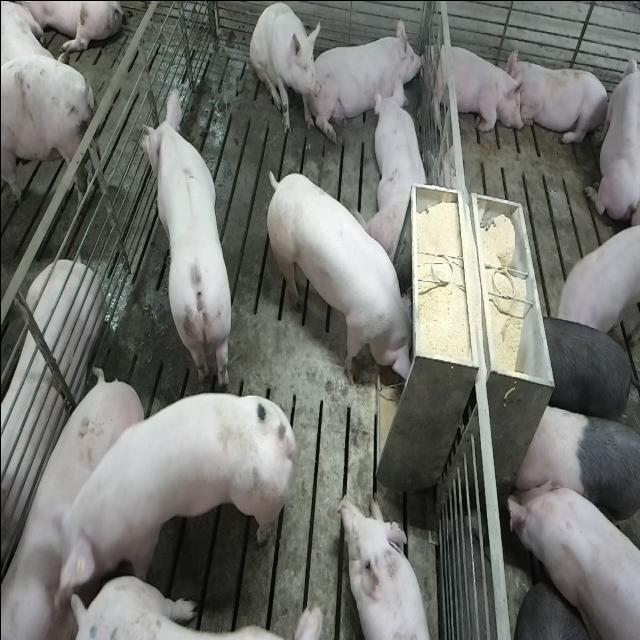Feeding: (270, 168, 422, 392)
Lateral_lying: (0, 256, 102, 633)
Sitting: (248, 2, 320, 138)
Standing: (49, 382, 299, 604), (138, 80, 234, 387), (503, 473, 638, 640), (510, 401, 638, 564), (0, 58, 99, 226), (538, 312, 638, 428), (554, 218, 640, 344)
Sternal_lying: (339, 491, 436, 638), (314, 13, 424, 135), (366, 78, 431, 258), (425, 37, 524, 137), (509, 50, 610, 148), (585, 42, 637, 224)
